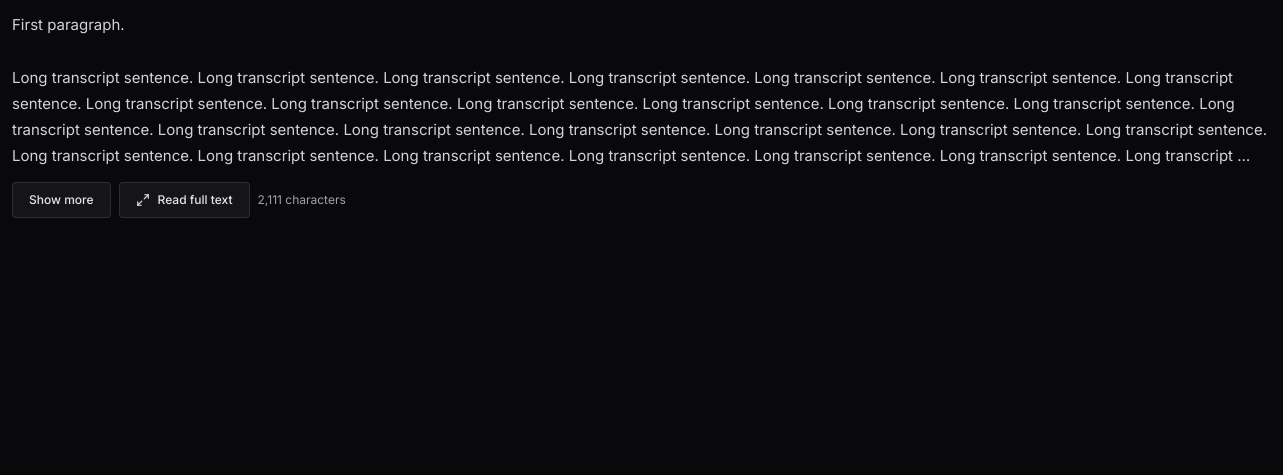
it: collapsing changes presentation without truncating the transcript or clipboard text
Later steps or results of the test are not shown.
Click the button "Show more" at (61, 200), box x1=12 y1=182 x2=110 y2=218
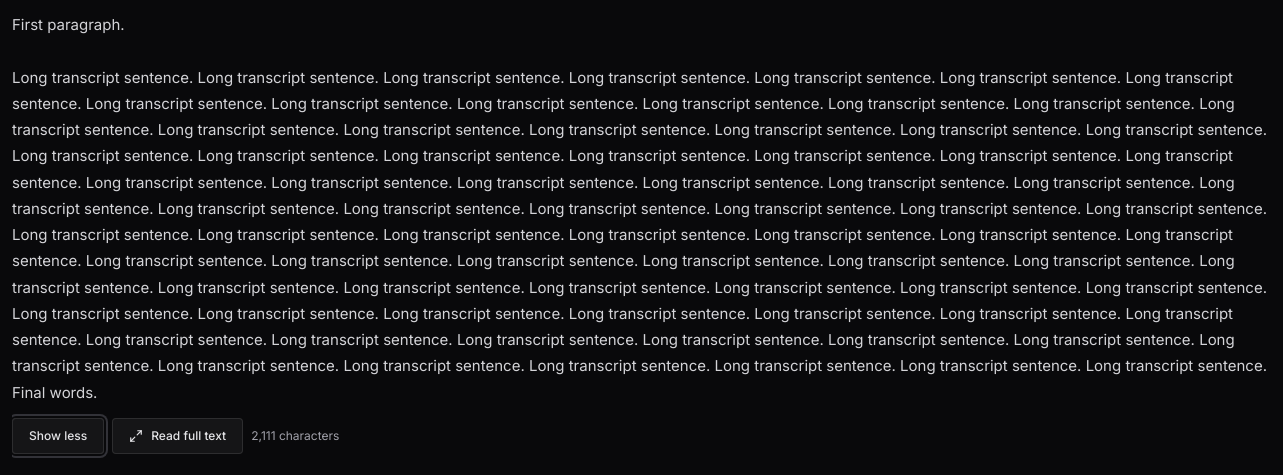
expect the button "Show less" is expanded: met, box x1=12 y1=418 x2=104 y2=454
